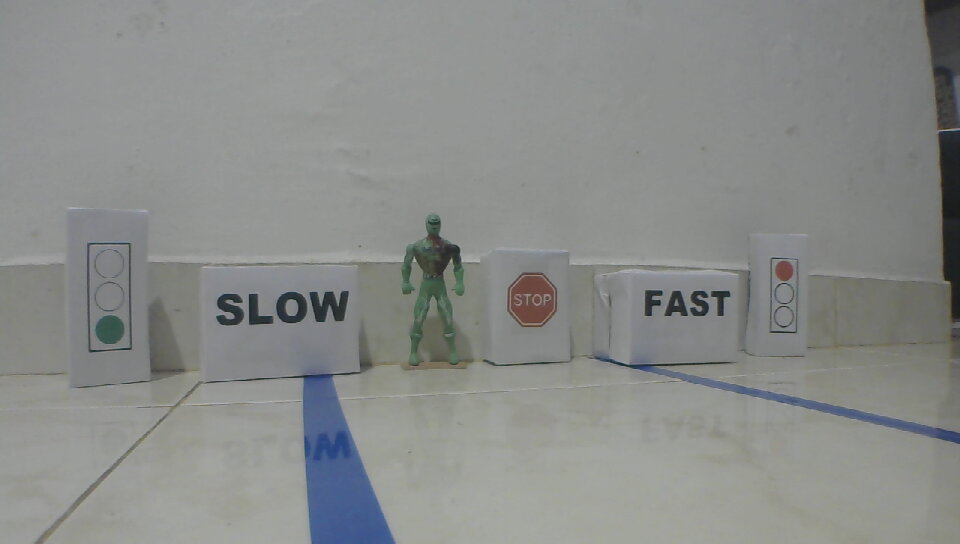Fast: (643, 287, 733, 320)
Green Traffic Light: (86, 241, 135, 358), (766, 254, 802, 336)
Person: (396, 209, 470, 371)
Slow: (215, 290, 351, 327)
Stop Sign: (505, 270, 558, 329)
